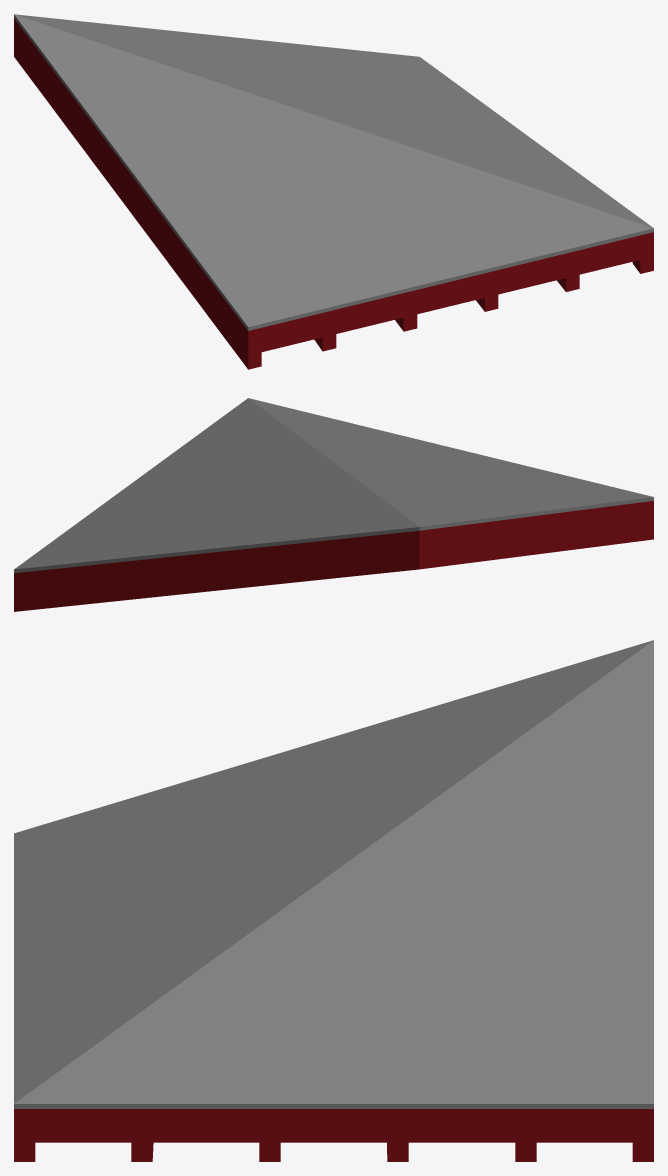
The model's file is SM_MH_01_Slate_Porch_Roof_Corner_01.fbx.
The picture shows the model from 3 angles, top to bottom: view 1: azimuth 30°, elevation 25°; view 2: azimuth 150°, elevation 25°; view 3: azimuth 270°, elevation 25°; orthographic projection. The views are drawn at different scales.
Visible parts, largest first — view 1: SM_MH_01_Slate_Porch_Roof_Corner_01_LOD0; view 2: SM_MH_01_Slate_Porch_Roof_Corner_01_LOD0; view 3: SM_MH_01_Slate_Porch_Roof_Corner_01_LOD0.
Part boxes in pixels (x1,y1,x2,y2): SM_MH_01_Slate_Porch_Roof_Corner_01_LOD0: (14,14,653,369); SM_MH_01_Slate_Porch_Roof_Corner_01_LOD0: (14,398,653,611); SM_MH_01_Slate_Porch_Roof_Corner_01_LOD0: (14,640,653,1161).
Size of what is drawn, in the model's own units: 300 by 130 by 300.
